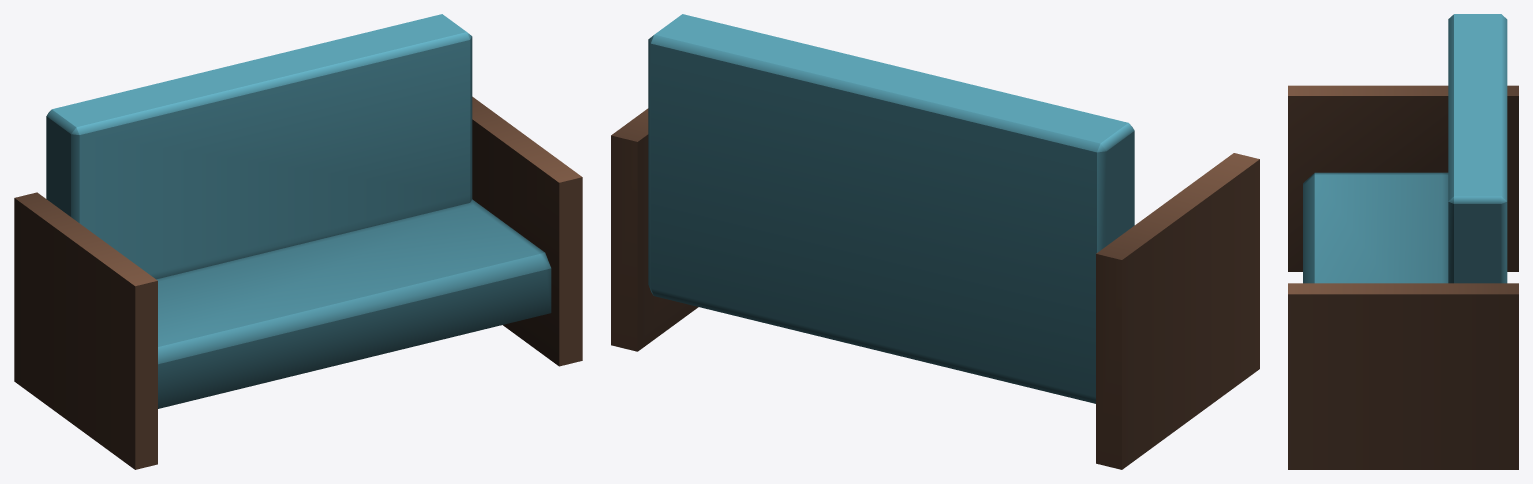
The model's file is scene_couch.fbx.
3 renders of one model, left to right at view 1: azimuth 30°, elevation 25°; view 2: azimuth 150°, elevation 25°; view 3: azimuth 270°, elevation 25°, orthographic. The views are drawn at different scales.
Visible parts, largest first — view 1: mesh_armchair1; view 2: mesh_armchair1; view 3: mesh_armchair1.
Part boxes in pixels (x1,y1,x2,y2): mesh_armchair1: [14, 14, 582, 469]; mesh_armchair1: [611, 14, 1259, 469]; mesh_armchair1: [1288, 14, 1518, 469].
Bounding box in the file's own units: 1.88 × 1.09 × 0.8769.
